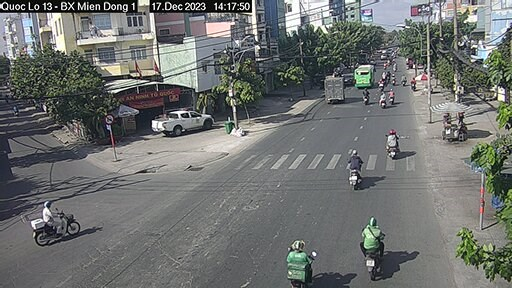bus: (355, 63, 377, 89)
car: (152, 109, 215, 138)
motorbike: (30, 206, 80, 246), (358, 212, 385, 276), (281, 243, 316, 284), (346, 144, 364, 192), (378, 129, 402, 156), (387, 86, 401, 109), (362, 84, 374, 104), (377, 91, 388, 108)
truck: (323, 75, 347, 104)
